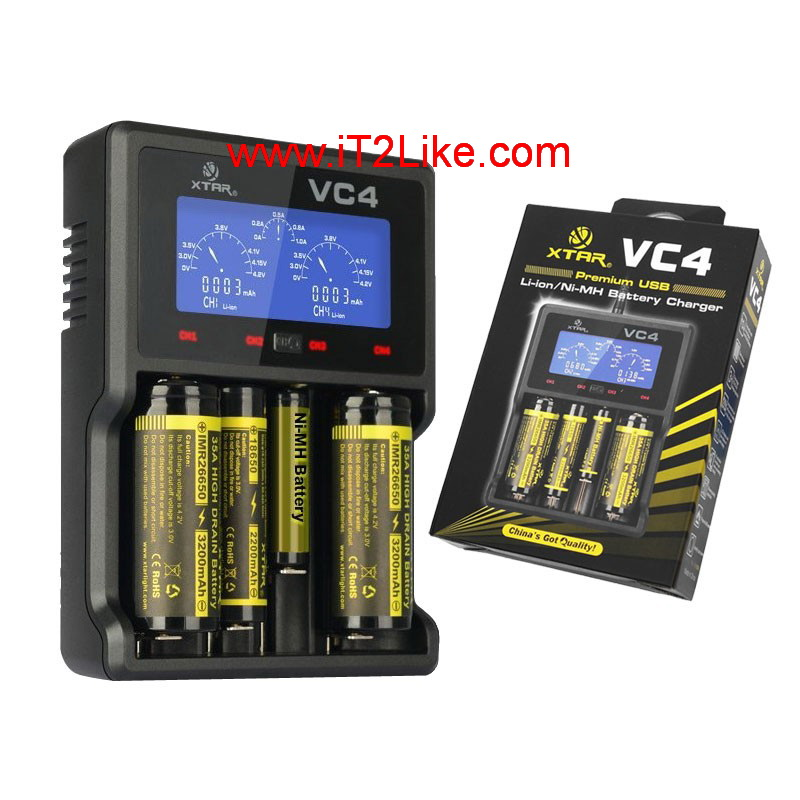Battery: (132, 378, 222, 637), (327, 395, 418, 636), (218, 382, 272, 629), (268, 383, 313, 572)
